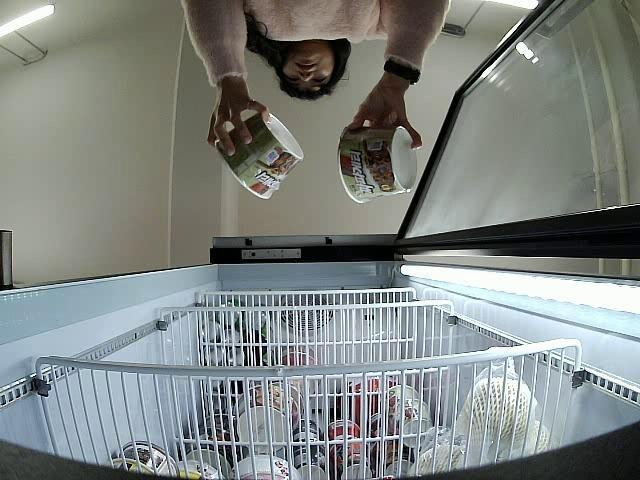03_chapagetti_L: (214, 112, 304, 200), (338, 121, 420, 206)
